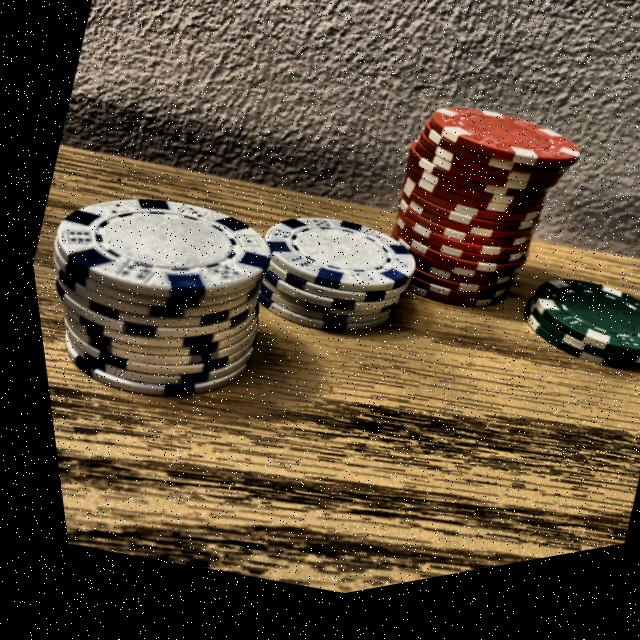Chip: (17, 131, 322, 474), (336, 61, 613, 374), (213, 173, 448, 397), (488, 257, 640, 432)
